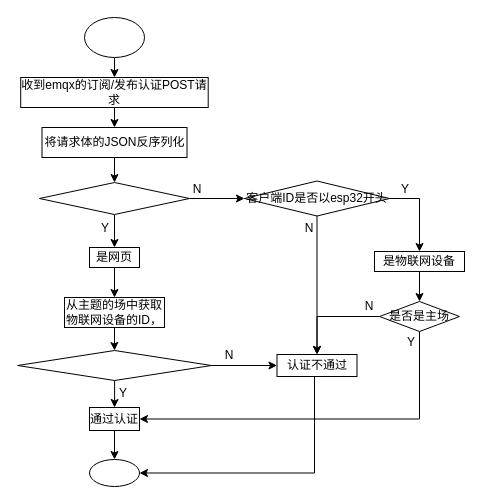
Some shapes in this 482 by 504 pixel diagram are drawn without their labels. Each missing label, with the centre of its shape:
"客户端ID是否以用户名开头" belongs at pixel 114 198.
"开始" belongs at pixel 114 37.
"检查该用户名下是否有该设备" belongs at pixel 114 365.
"结束" belongs at pixel 114 472.
